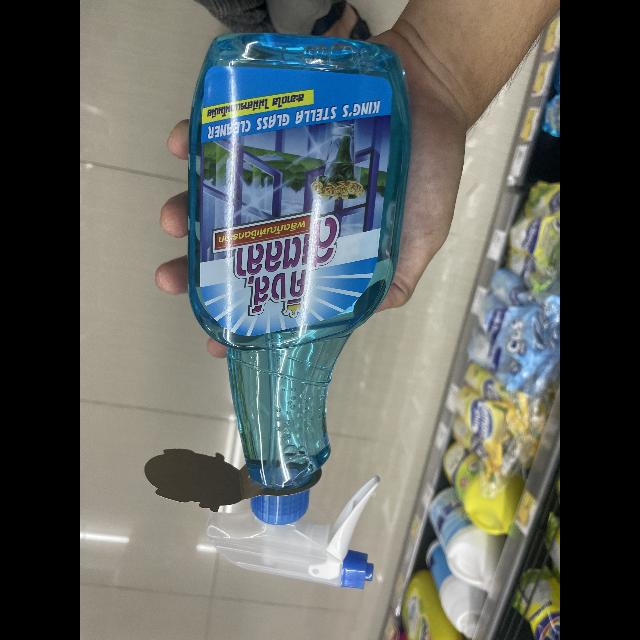chemical_plastic_bottle: (185, 21, 417, 601)
